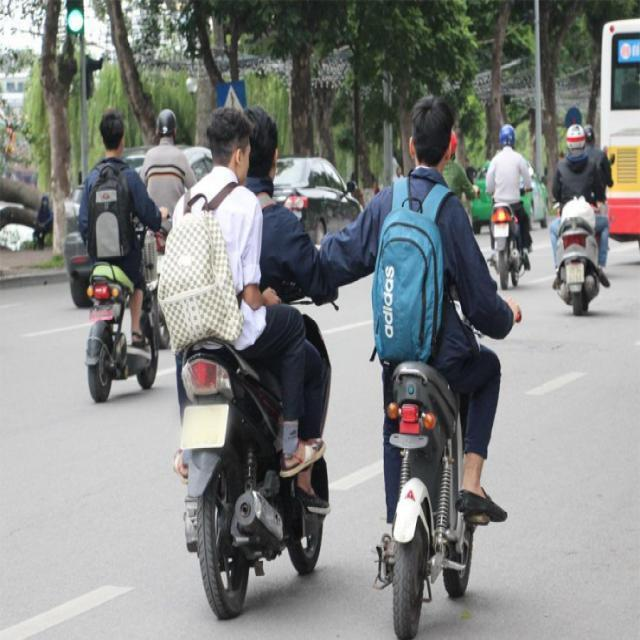motorcycle: (165, 322, 315, 620), (371, 346, 495, 628), (73, 248, 164, 405), (552, 201, 611, 324), (484, 196, 534, 294)
plate: (176, 396, 236, 456), (562, 261, 589, 288), (490, 222, 512, 242)
